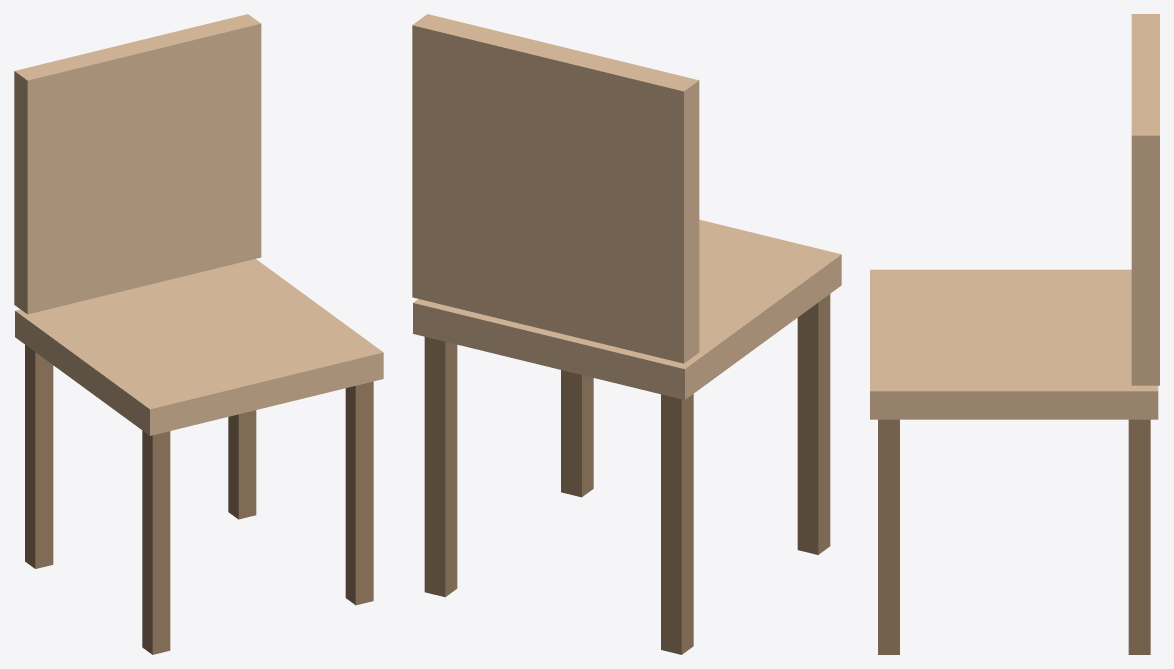
Rendered from cadeira.glb.
The picture shows the model from 3 angles, left to right: view 1: azimuth 30°, elevation 25°; view 2: azimuth 150°, elevation 25°; view 3: azimuth 270°, elevation 25°; orthographic projection. The views are drawn at different scales.
Parts seen in each view (by area): view 1: cadeira; view 2: cadeira; view 3: cadeira.
Boxes of the visible parts, x1=… form: cadeira: x1=14, y1=14, x2=383, y2=654; cadeira: x1=412, y1=14, x2=841, y2=654; cadeira: x1=870, y1=14, x2=1159, y2=654.
Bounding box in the file's own units: 0.46 × 0.92 × 0.4625.
